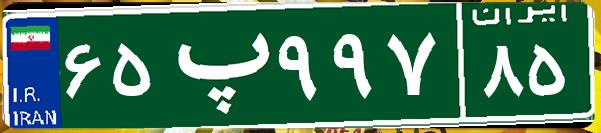5: (110, 28, 158, 105), (525, 38, 570, 115)
6: (57, 26, 110, 107)
7: (385, 28, 445, 110)
8: (475, 38, 525, 113)
9: (273, 28, 330, 110), (330, 28, 385, 110)
پ: (158, 15, 273, 115)
